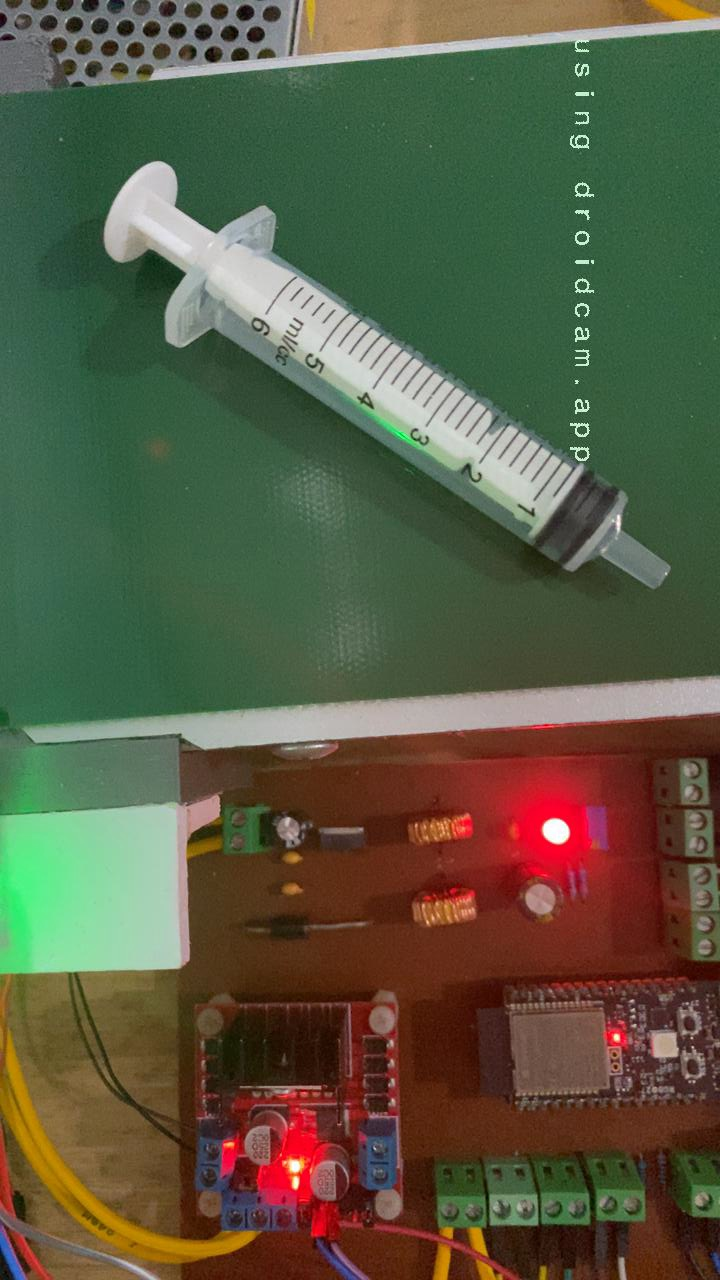syringe: (96, 154, 679, 594)
